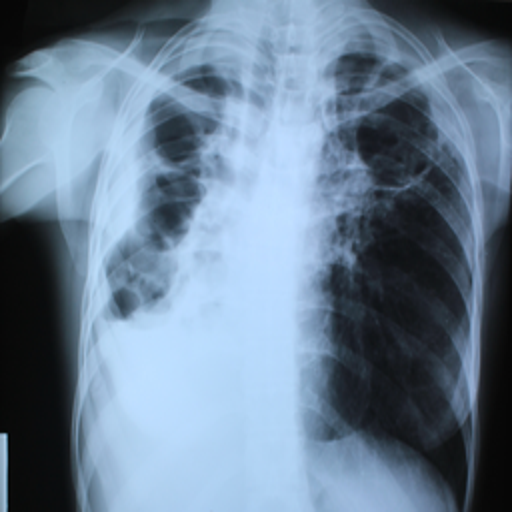TB: (94, 79, 238, 323), (330, 63, 453, 277)
